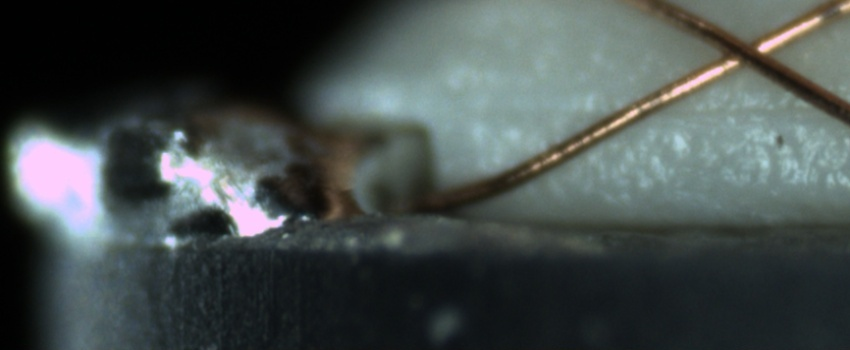CL: (695, 16, 793, 81)
DL: (507, 83, 850, 147)
